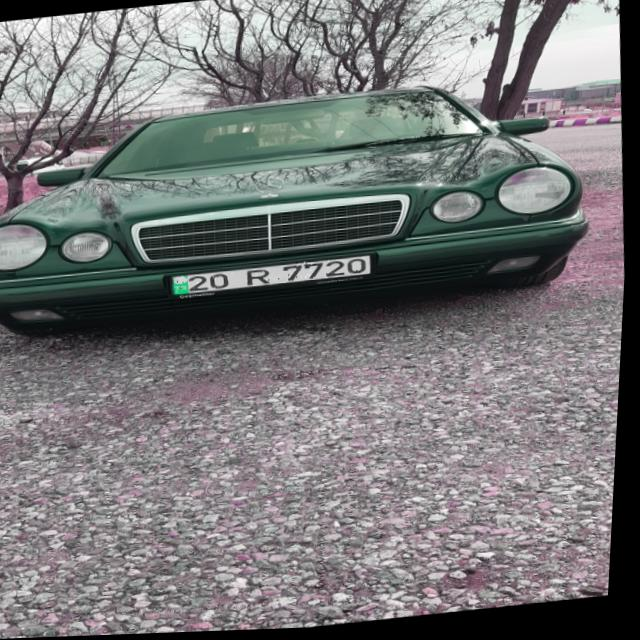plate: (174, 257, 375, 296)
